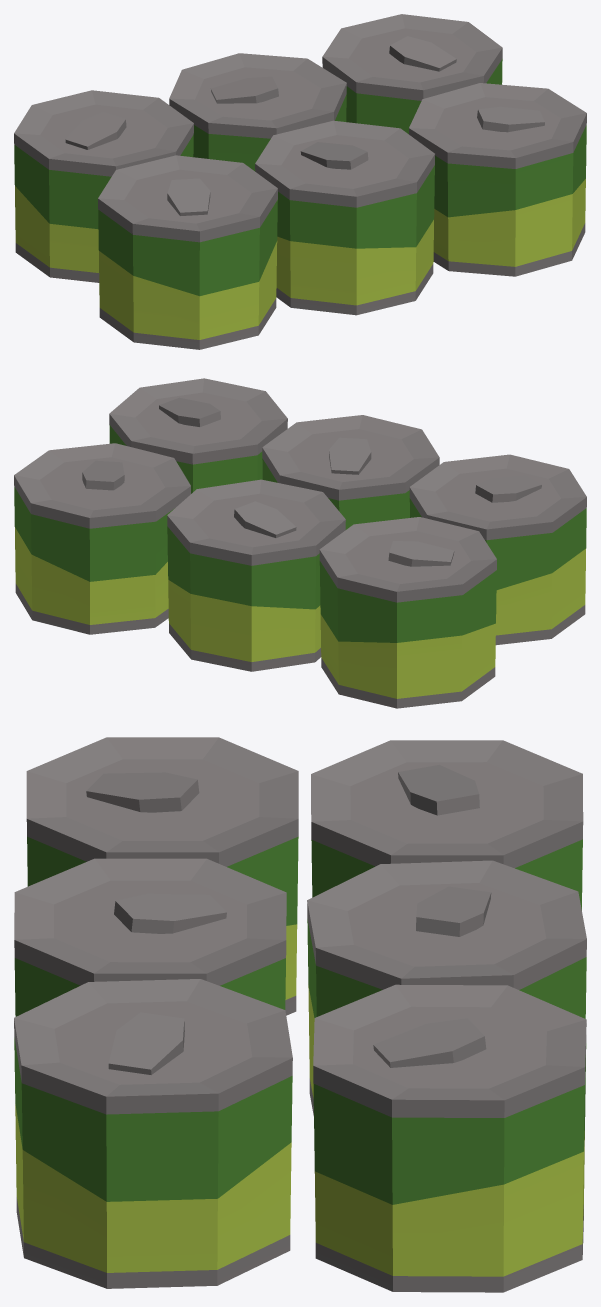
Rendered from can-pack-small.glb.
The picture shows the model from 3 angles, top to bottom: view 1: azimuth 30°, elevation 25°; view 2: azimuth 150°, elevation 25°; view 3: azimuth 270°, elevation 25°; orthographic projection. The views are drawn at different scales.
Visible parts, largest first — view 1: can-pack-small; view 2: can-pack-small; view 3: can-pack-small.
Part boxes in pixels (<box>): can-pack-small: <box>14,14,586,349</box>; can-pack-small: <box>14,378,586,708</box>; can-pack-small: <box>14,737,586,1292</box>.
Bounding box in the file's own units: 0.3611 × 0.0948 × 0.241.
1 material, 1 textured.
